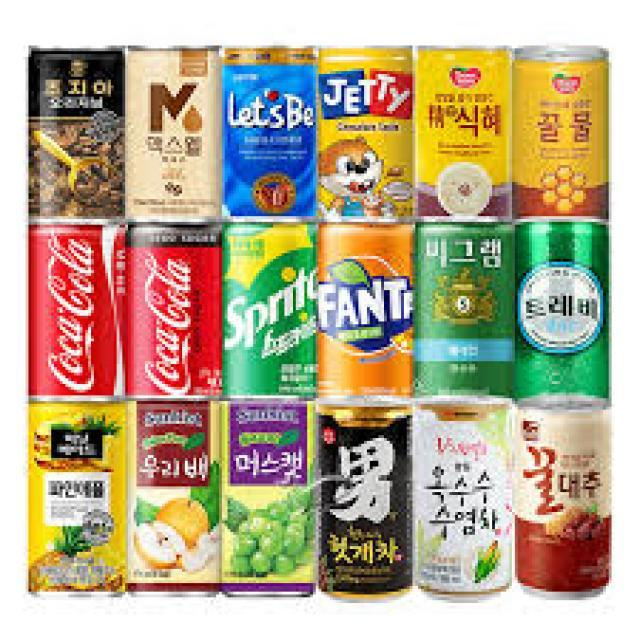coca-cola: (22, 216, 126, 404), (123, 216, 224, 404)
